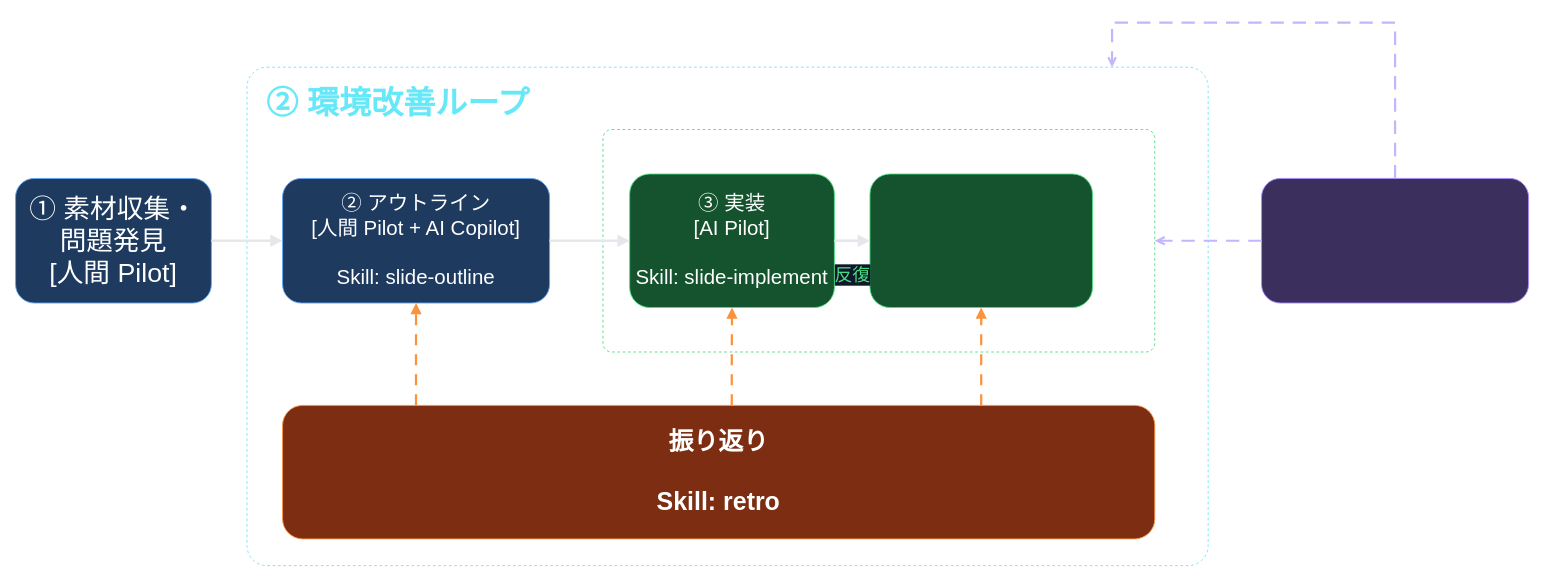
Some shapes in this 1544 by 581 pixel diagram are drawn without their labels. Each missing label, with the box of its shape:
① 目標達成ループ: (602, 129, 1155, 352)
④ レビュー [AI Copilot] Skill: slide-review: (869, 173, 1092, 307)
⑤ 人間: メタ観察者: (1261, 178, 1529, 303)
